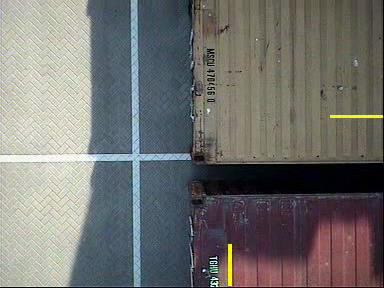groundmarker_2: (109, 129, 165, 161)
